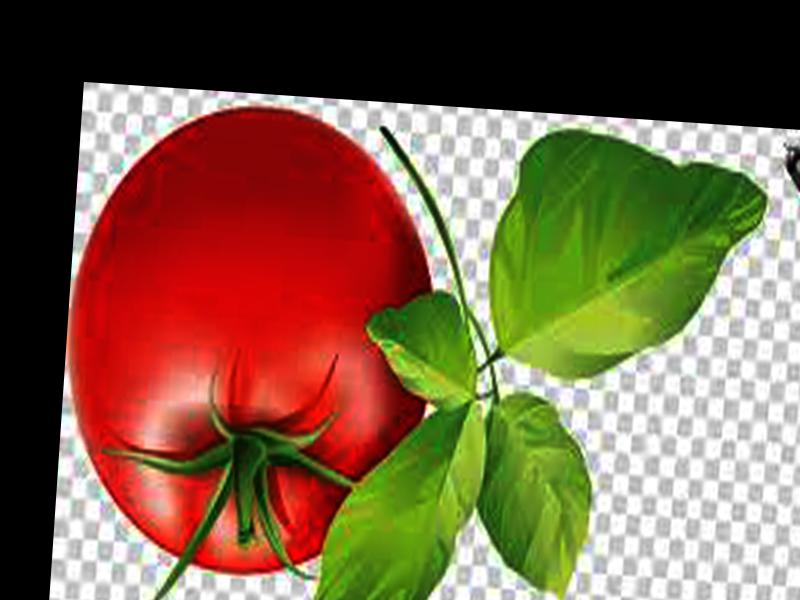Tomato: (54, 95, 444, 586)
